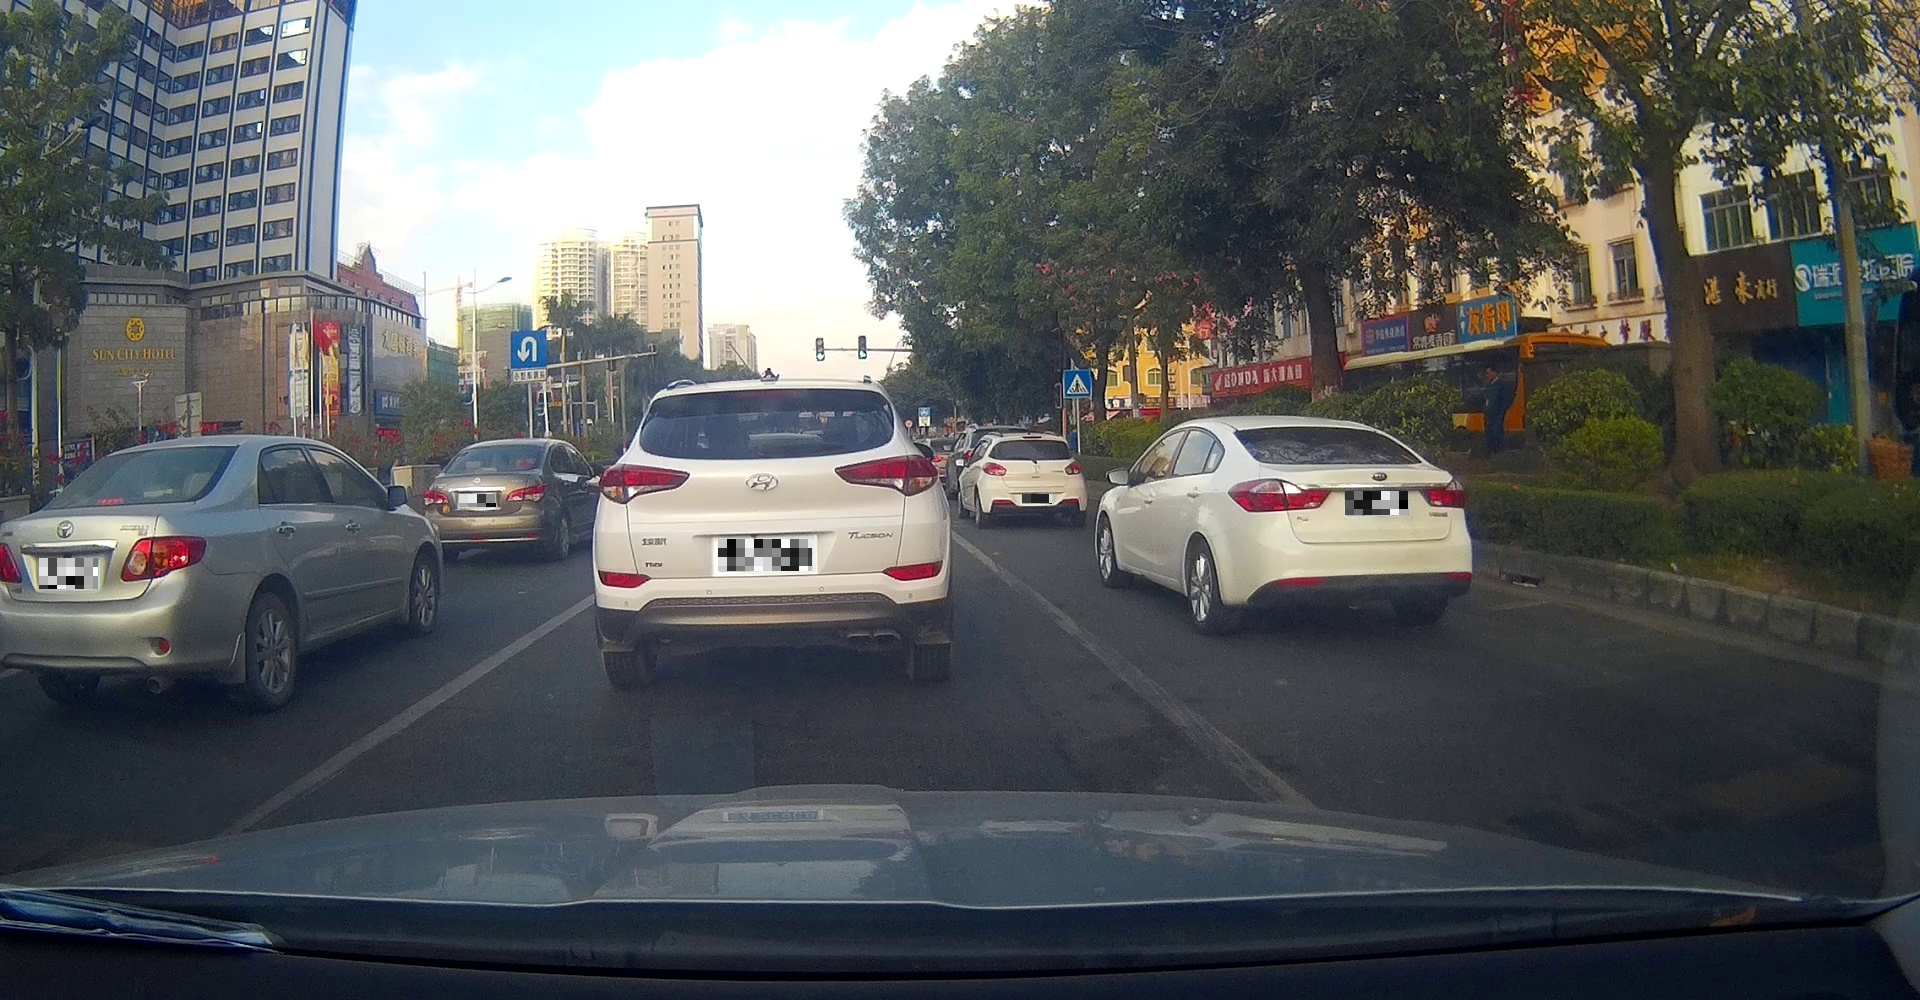L_light: (598, 463, 690, 505), (1227, 478, 1332, 513), (423, 489, 450, 506), (982, 462, 1007, 476)
R_light: (834, 454, 938, 497), (1417, 477, 1465, 509), (505, 484, 549, 503), (1064, 461, 1082, 475)
T_light: (1222, 414, 1473, 636), (735, 390, 801, 397), (1328, 459, 1370, 464), (474, 468, 498, 472), (1022, 437, 1043, 438)
day-no: (592, 376, 952, 690), (423, 438, 551, 563), (982, 431, 1087, 529)
plate_1: (39, 558, 98, 589)
plate_2: (458, 494, 497, 508)
plate_3: (717, 539, 811, 571)
plate_4: (1022, 494, 1051, 504)
plate_5: (1345, 491, 1408, 515)
